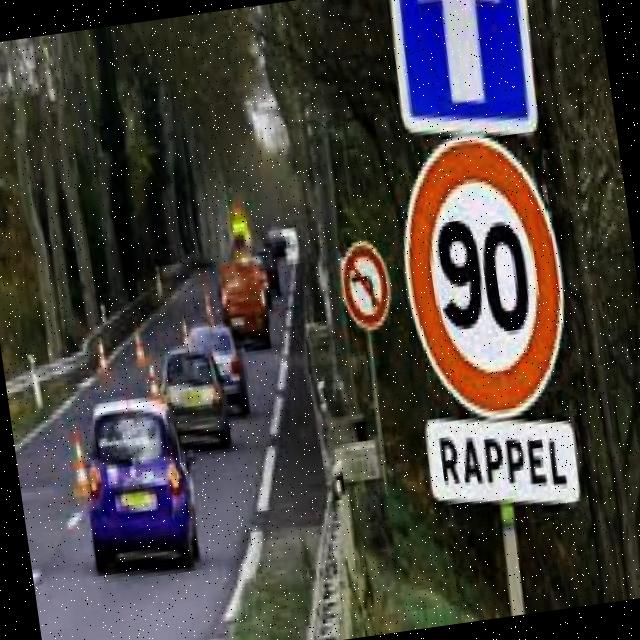Ograniczenie predkosci do 90: (394, 131, 576, 426)
